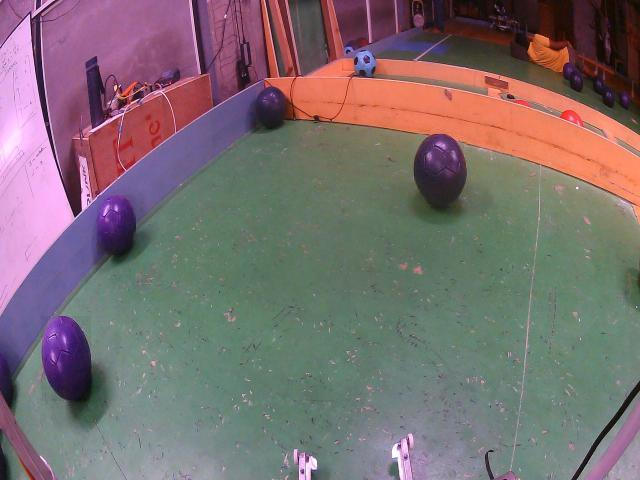jambhalya: (42, 316, 91, 401), (97, 195, 135, 255)
kaalyya: (414, 135, 466, 206), (256, 87, 286, 128)
